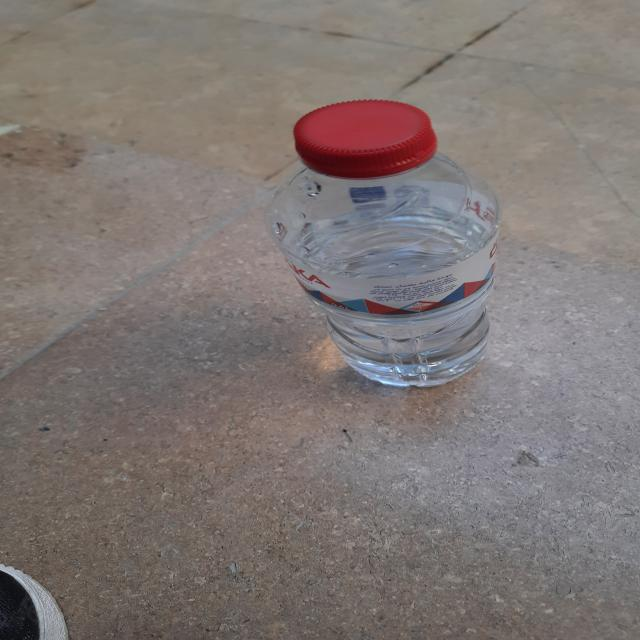plastic: (207, 71, 571, 440)
